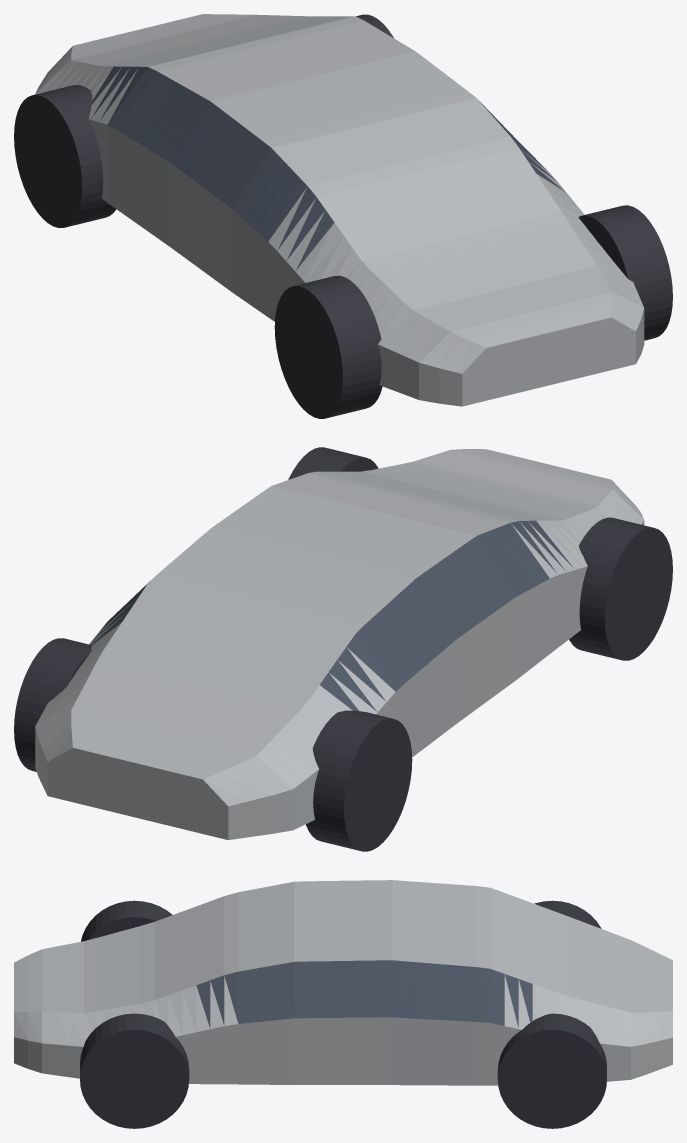
File: coupe.glb
3 views of the same model, one above another, from view 1: azimuth 30°, elevation 25°; view 2: azimuth 150°, elevation 25°; view 3: azimuth 270°, elevation 25° (orthographic). The views are drawn at different scales.
Parts seen in each view (by area): view 1: world; view 2: world; view 3: world.
Part boxes in pixels (bbox=[...]): world: bbox=[14, 14, 672, 418]; world: bbox=[14, 447, 672, 851]; world: bbox=[14, 880, 672, 1128].
Size of the model in its own units: 1.9 by 0.9896 by 4.1.
